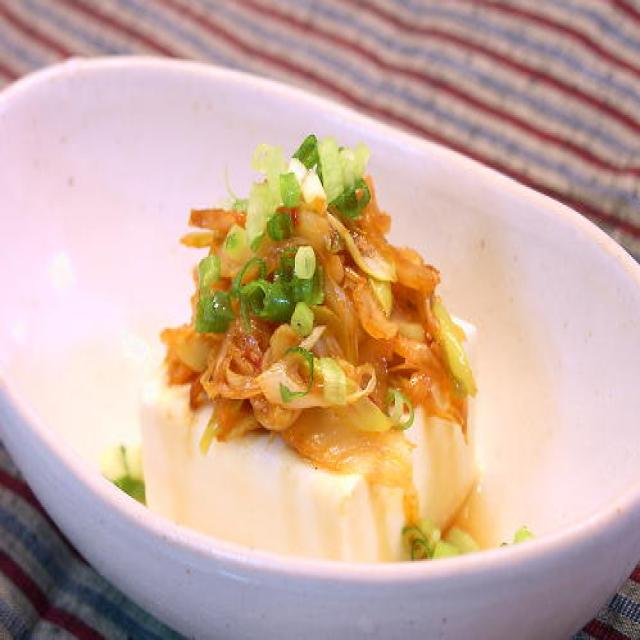豆腐料理: (108, 122, 484, 594)
